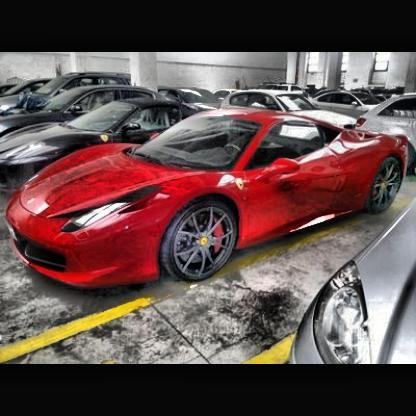Ferrari 458 Italia Coupe 2012: (5, 112, 411, 291)
